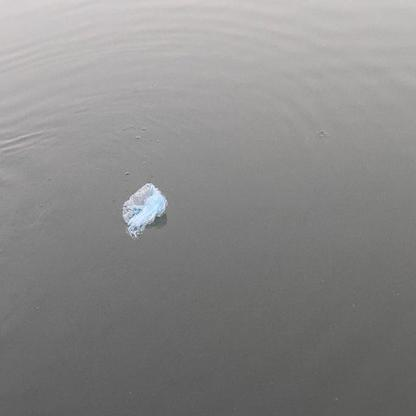plastic bag: (121, 181, 168, 239)
